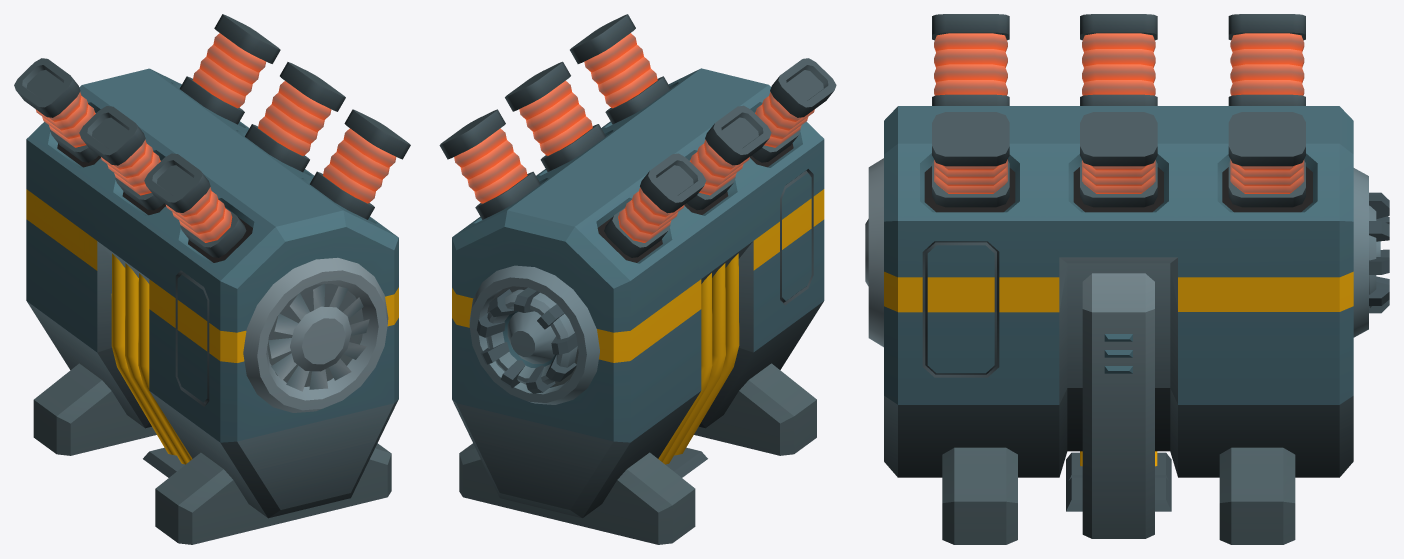
File: Generator_007.glb
3 views of the same model, side by side, from view 1: azimuth 30°, elevation 25°; view 2: azimuth 150°, elevation 25°; view 3: azimuth 270°, elevation 25° (orthographic). The views are drawn at different scales.
Parts seen in each view (by area): view 1: Generator_007, Generator_010, Generator_rotor_004; view 2: Generator_007, Generator_010, Generator_rotor_004; view 3: Generator_007, Generator_010, Generator_rotor_004.
Part boxes in pixels (x1,y1,x2,y2): Generator_007: (26,68,398,544); Generator_010: (14,14,410,257); Generator_rotor_004: (268,283,369,391); Generator_007: (452,68,824,544); Generator_010: (439,14,836,257); Generator_rotor_004: (477,287,577,393); Generator_007: (865,106,1380,544); Generator_010: (932,14,1305,207); Generator_rotor_004: (1369,192,1389,313).
Bounding box in the file's own units: 1.49 × 2.2 × 2.47.
Materials: 2 (2 with a texture image).
